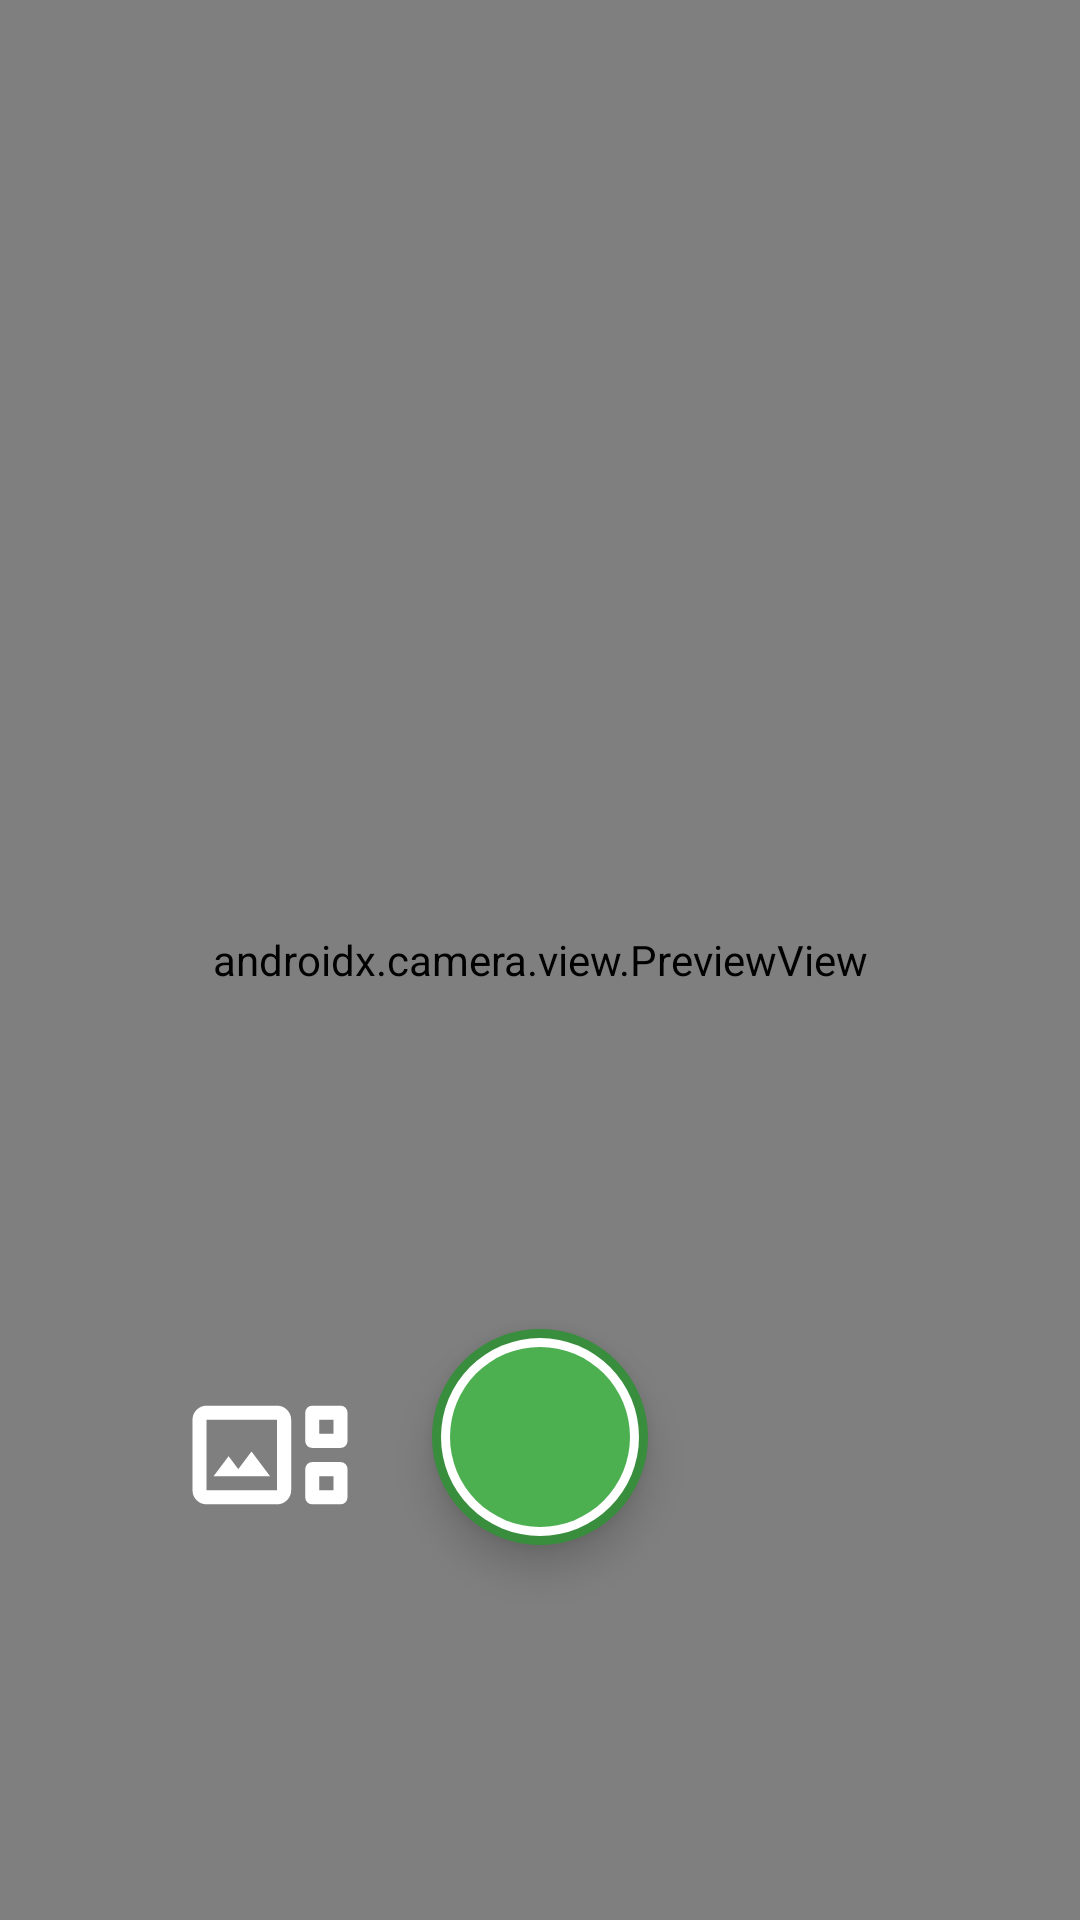

Named icons in this screenshot (1080 × 1920) and their bounding boxes, (x1, y1, x2, y2):
gallery: (192, 1405, 348, 1505)
